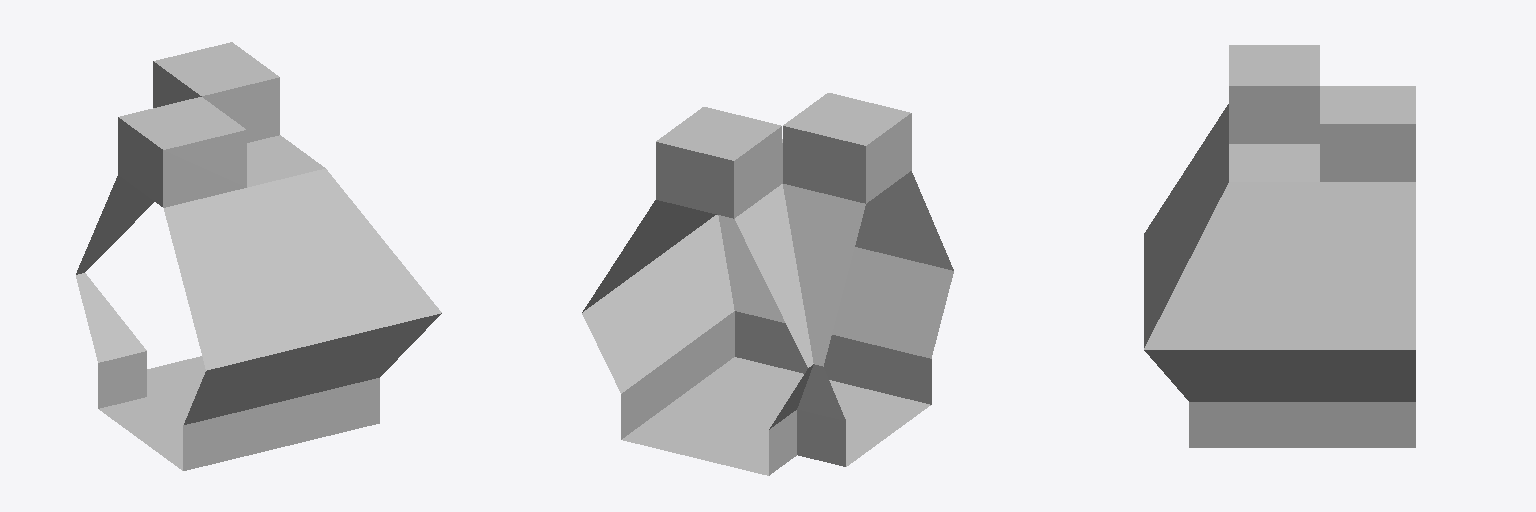
The model's file is corridor-l.obj.
The picture shows the model from 3 angles: view 1: azimuth 30°, elevation 25°; view 2: azimuth 150°, elevation 25°; view 3: azimuth 270°, elevation 25°; orthographic projection.
Visible parts, largest first — view 1: corridor_l; view 2: corridor_l; view 3: corridor_l.
Boxes of the visible parts, x1=… form: corridor_l: x1=76, y1=42, x2=441, y2=470; corridor_l: x1=582, y1=93, x2=953, y2=475; corridor_l: x1=1144, y1=45, x2=1415, y2=447.
Bounding box in the file's own units: 4.8 × 5.96 × 4.8.